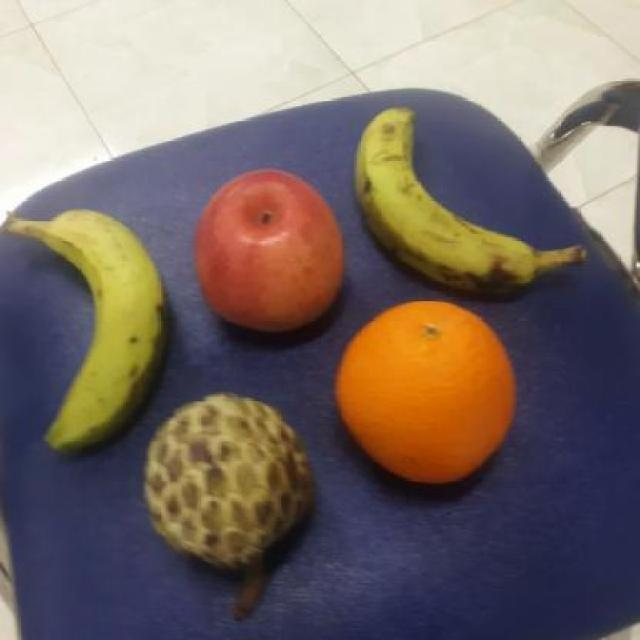apple: (186, 166, 352, 337)
banana: (350, 101, 536, 297), (36, 209, 169, 456)
oren: (337, 298, 521, 487)
sugar apple: (145, 390, 318, 562)
